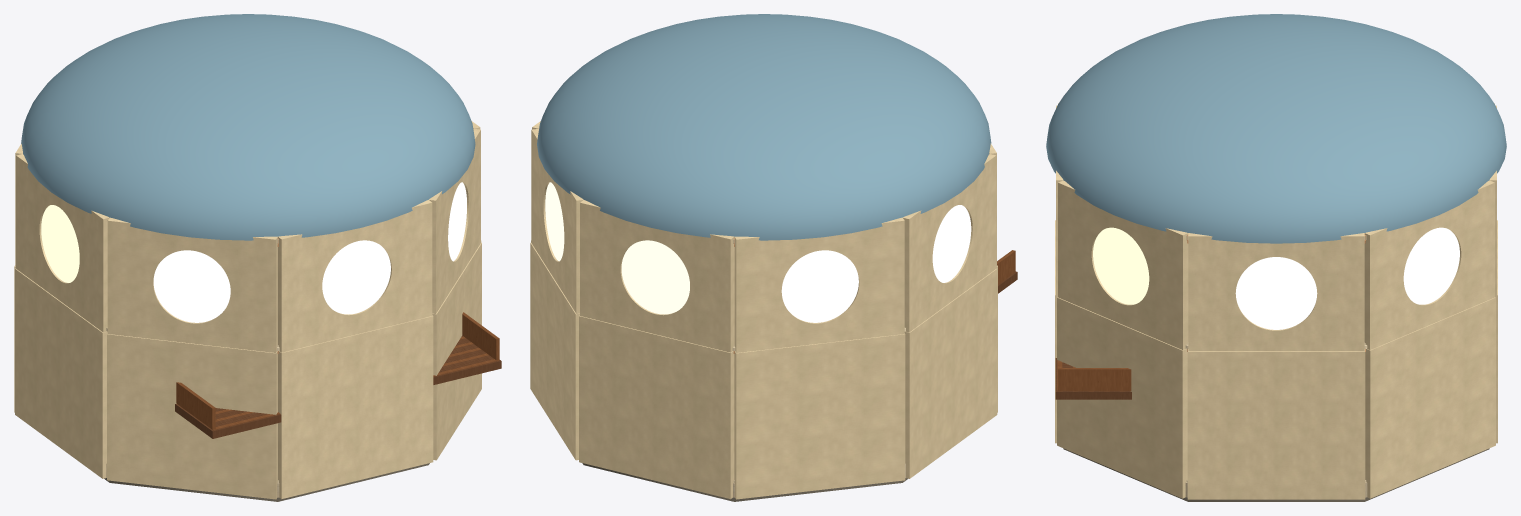
File: syn_innen.glb
3 views of the same model, side by side, from view 1: azimuth 30°, elevation 25°; view 2: azimuth 150°, elevation 25°; view 3: azimuth 270°, elevation 25° (orthographic).
Parts seen in each view (by area): view 1: Innenraumstudie; view 2: Innenraumstudie; view 3: Innenraumstudie.
Part boxes in pixels (x1=…): Innenraumstudie: x1=14, y1=14, x2=501, y2=501; Innenraumstudie: x1=530, y1=14, x2=1017, y2=501; Innenraumstudie: x1=1046, y1=14, x2=1506, y2=501.
Bounding box in the file's own units: 19.46 × 16.56 × 19.46.
26 materials, 6 textured.
